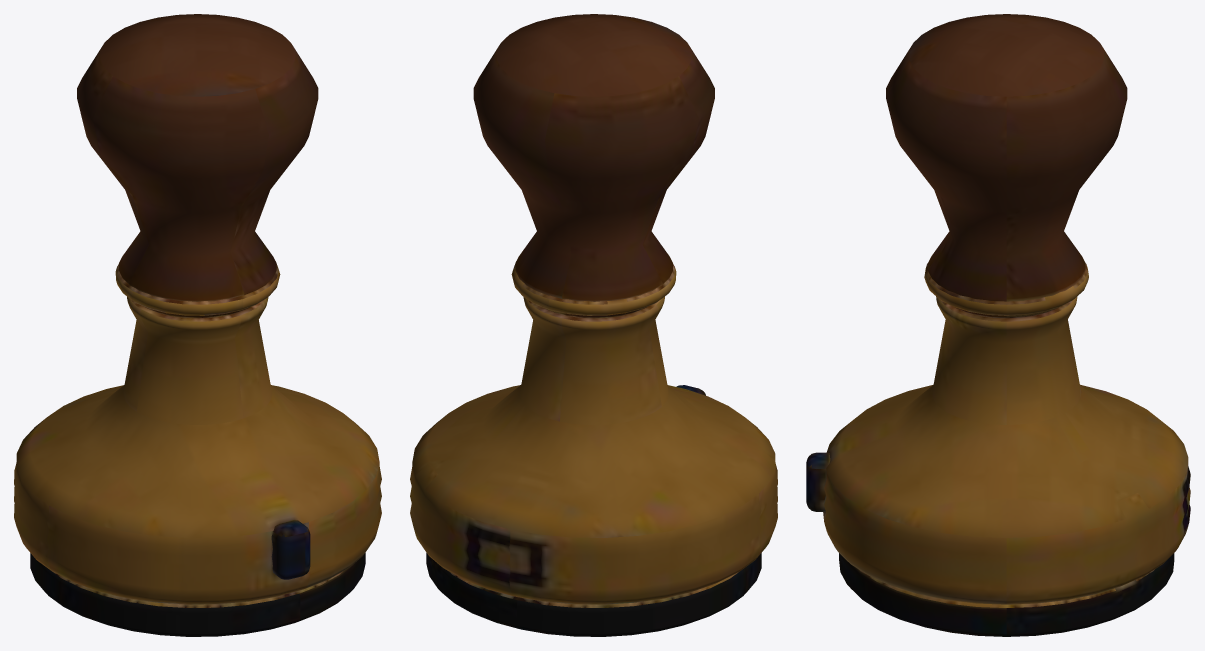
Rendered from registrar_stamp.glb.
3 views of the same model, side by side, from view 1: azimuth 30°, elevation 25°; view 2: azimuth 150°, elevation 25°; view 3: azimuth 270°, elevation 25° (orthographic).
Visible parts, largest first — view 1: registrar_stamp; view 2: registrar_stamp; view 3: registrar_stamp.
Part boxes in pixels (box(x1,y1,x2,y2)): registrar_stamp: box(14, 14, 381, 636); registrar_stamp: box(410, 14, 777, 636); registrar_stamp: box(806, 14, 1190, 636).
Size of the model in its own units: 0.0788 by 0.127 by 0.0825.
Materials: 1 (1 with a texture image).
